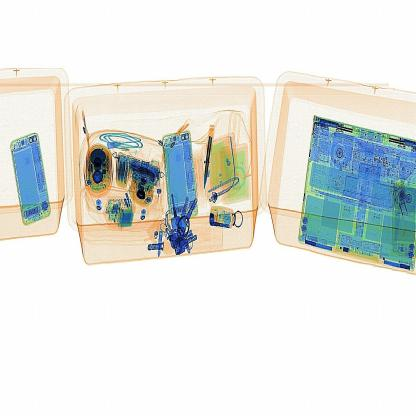gun: (197, 114, 224, 190)
